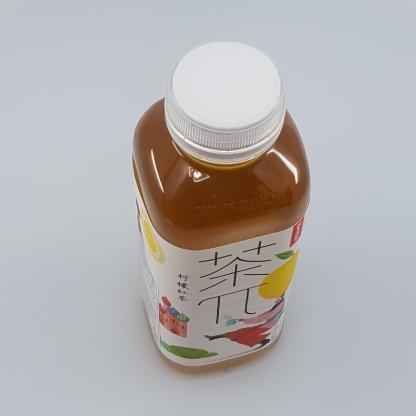------------: (132, 40, 311, 375)
